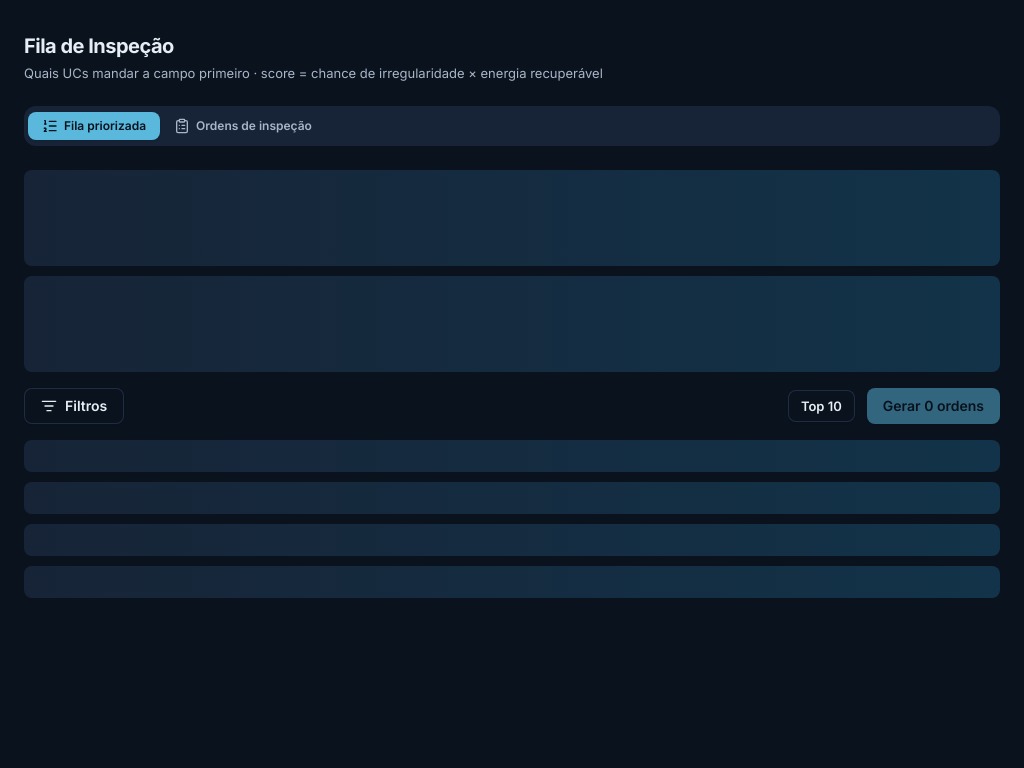
it: LossManagementPage › move a ordem para Concluída com inspetor e data, sem recarregar a página, depois de salvar o resultado
Click the tab "Ordens de inspeção" at (243,126), box [160, 112, 326, 140]
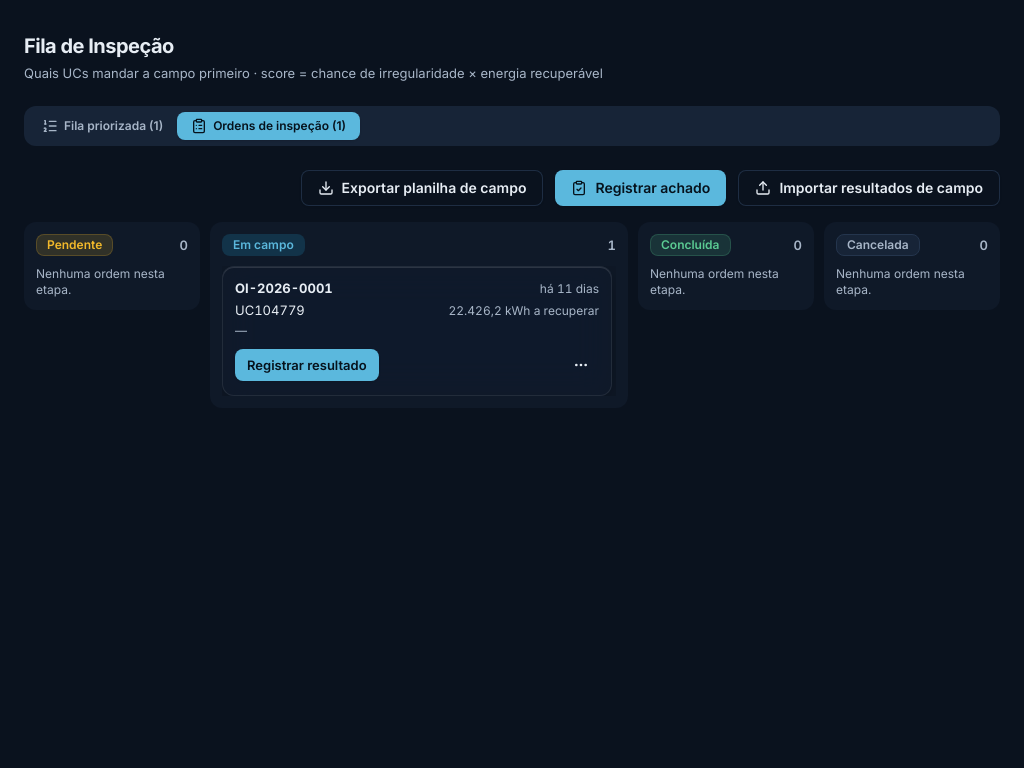
Click the button with aria-label "Registrar resultado OI-" at (307,365), box [235, 349, 379, 381]
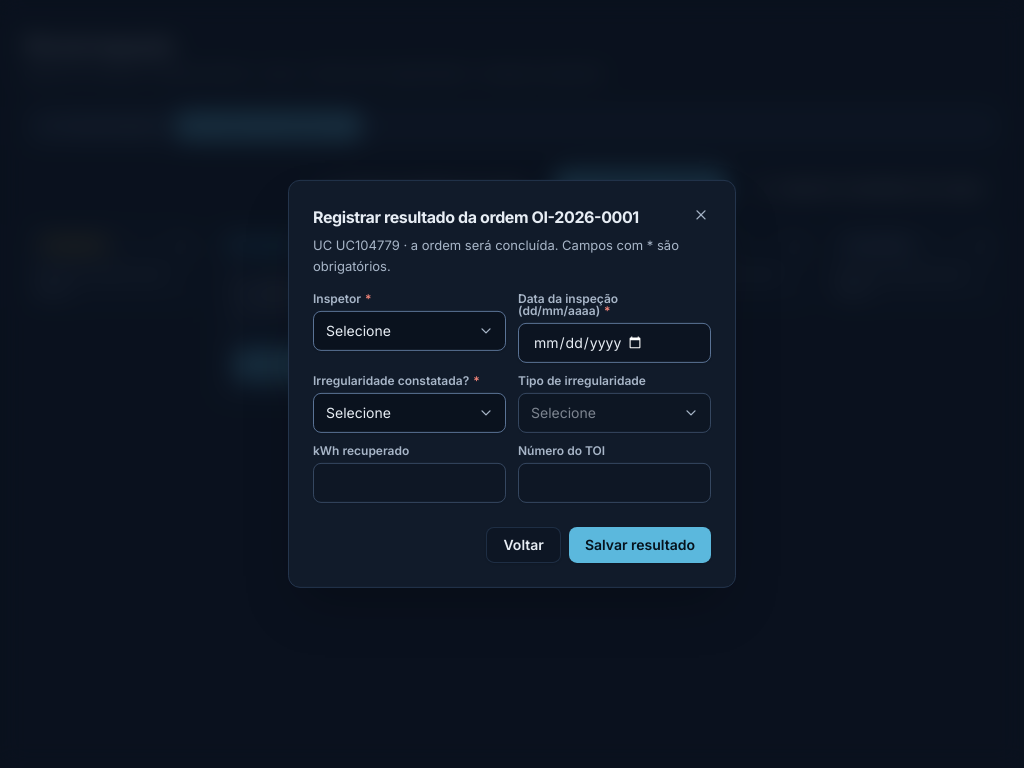
Select "INSP-007" in the dropdown labelled "Inspetor*" at (410,331), box [313, 311, 506, 351]
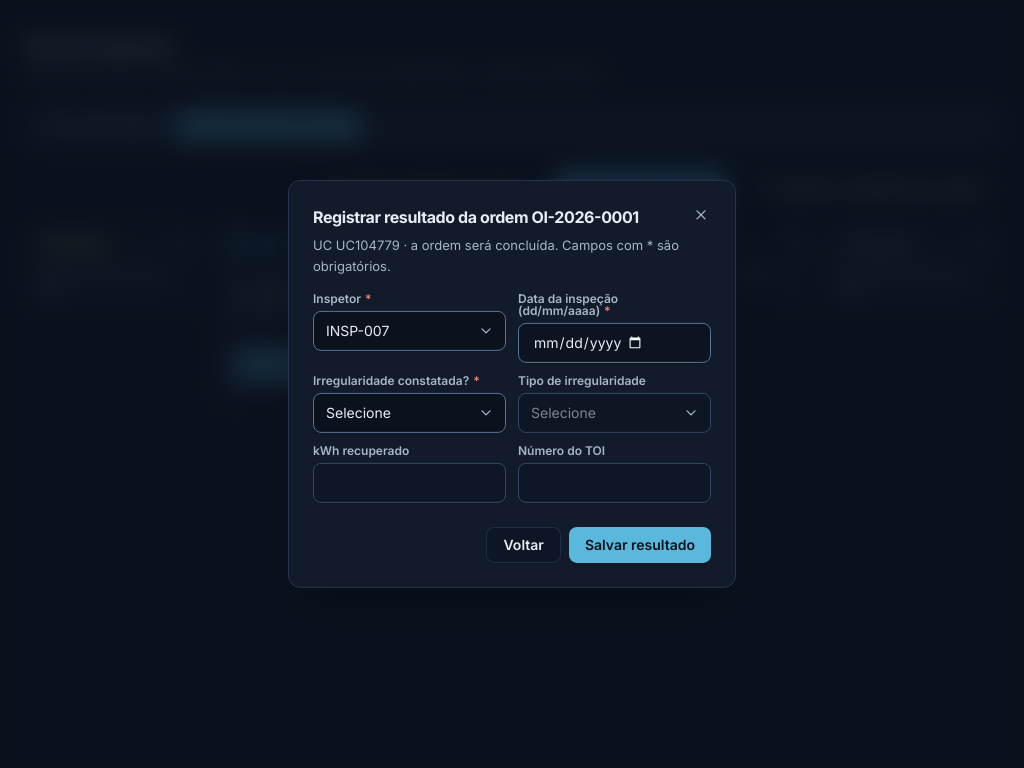
Type "2026-10-27" into the date field labelled "Data da inspeção (dd/mm/aaaa)*" at (614,343), box [518, 323, 711, 363]
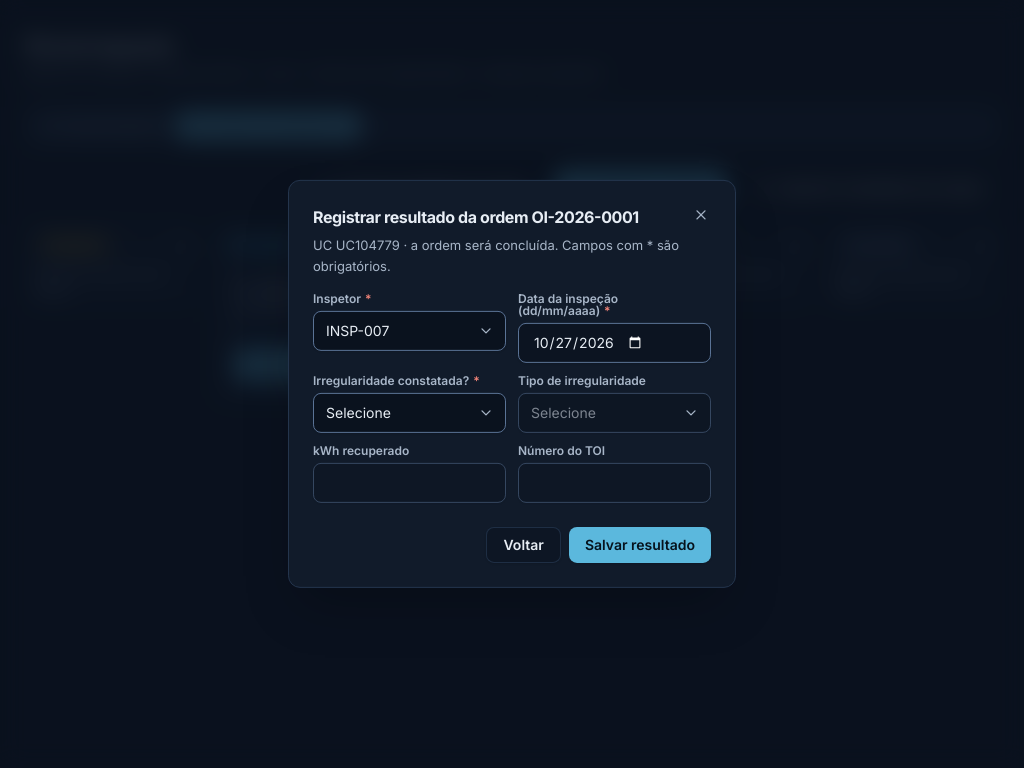
Select "Não" in the dropdown labelled "Irregularidade constatada?*" at (410,413), box [313, 393, 506, 433]
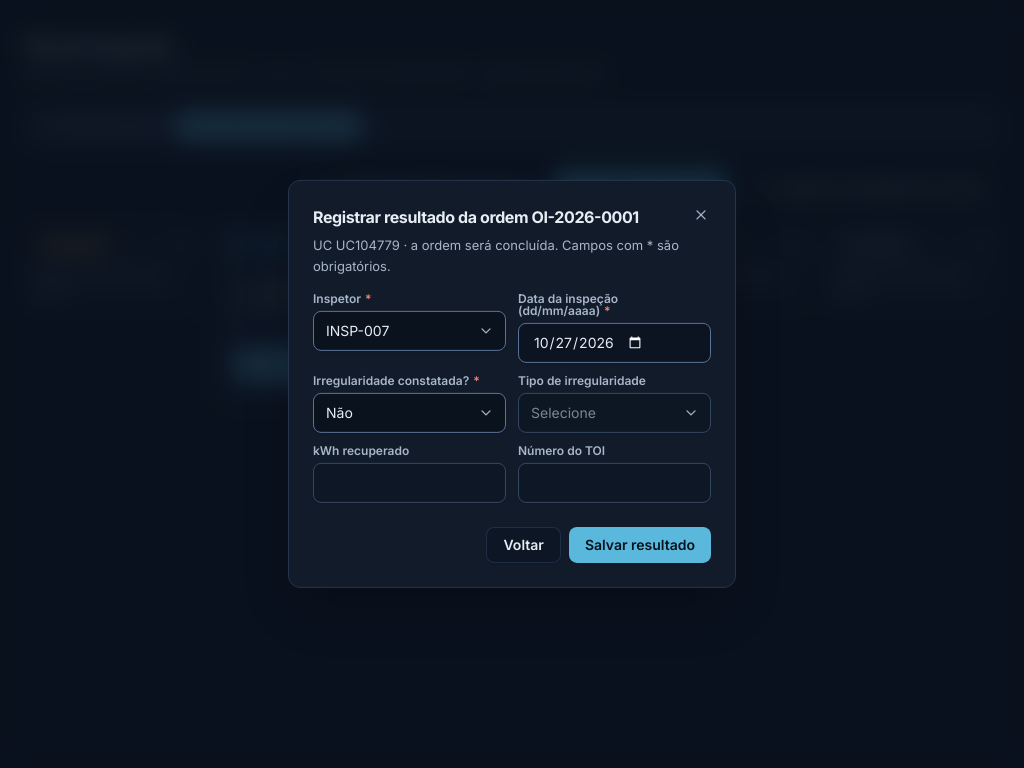
Click the button "Salvar resultado" at (640,545), box [569, 527, 711, 563]
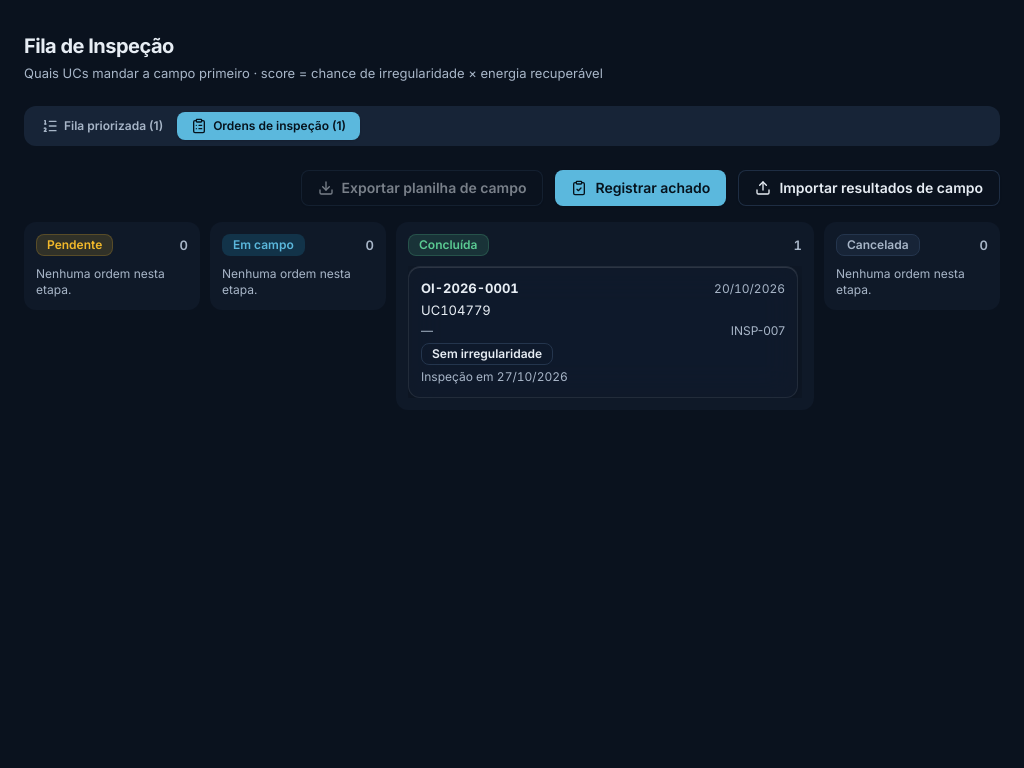
Check: the text "INSP-007" is shown, box [731, 323, 785, 339]
Check: the text "Inspeção em 27/10/2026" is shown, box [421, 369, 568, 384]
Check: the element named "Em campo (0)" is shown, box [210, 222, 386, 310]
